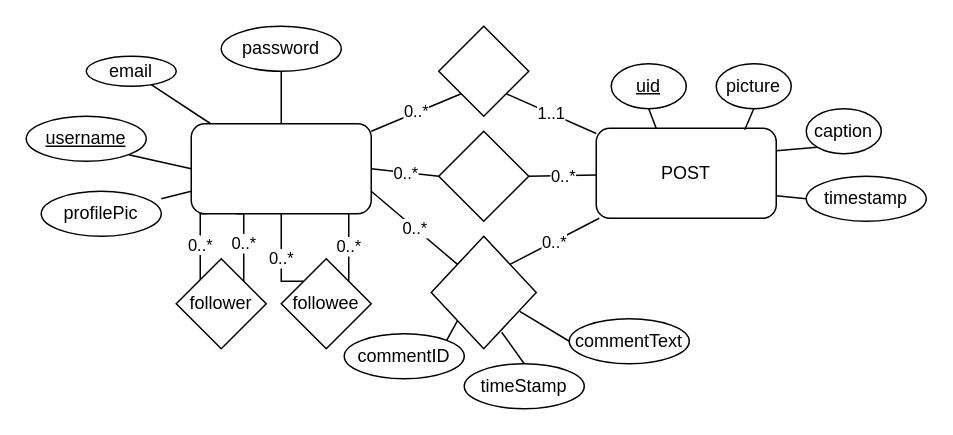
Image size: 953x435. Some labels were removed from this diagram. The centre of each missing label's shape, as x and y in pixels:
"comments" belongs at point (483, 292).
"likes" belongs at point (483, 175).
"owns" belongs at point (483, 70).
"USER" belongs at point (280, 168).
